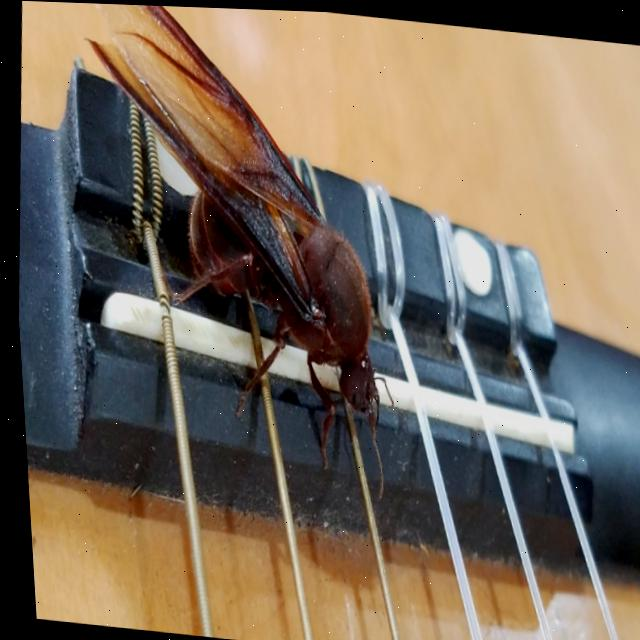Alive-Female-Alate: (53, 2, 421, 501)
